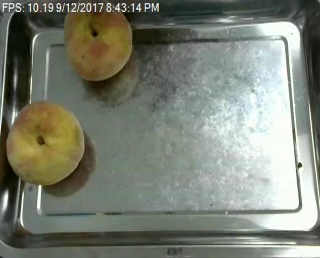Peach: (4, 101, 85, 185), (64, 2, 133, 81)
